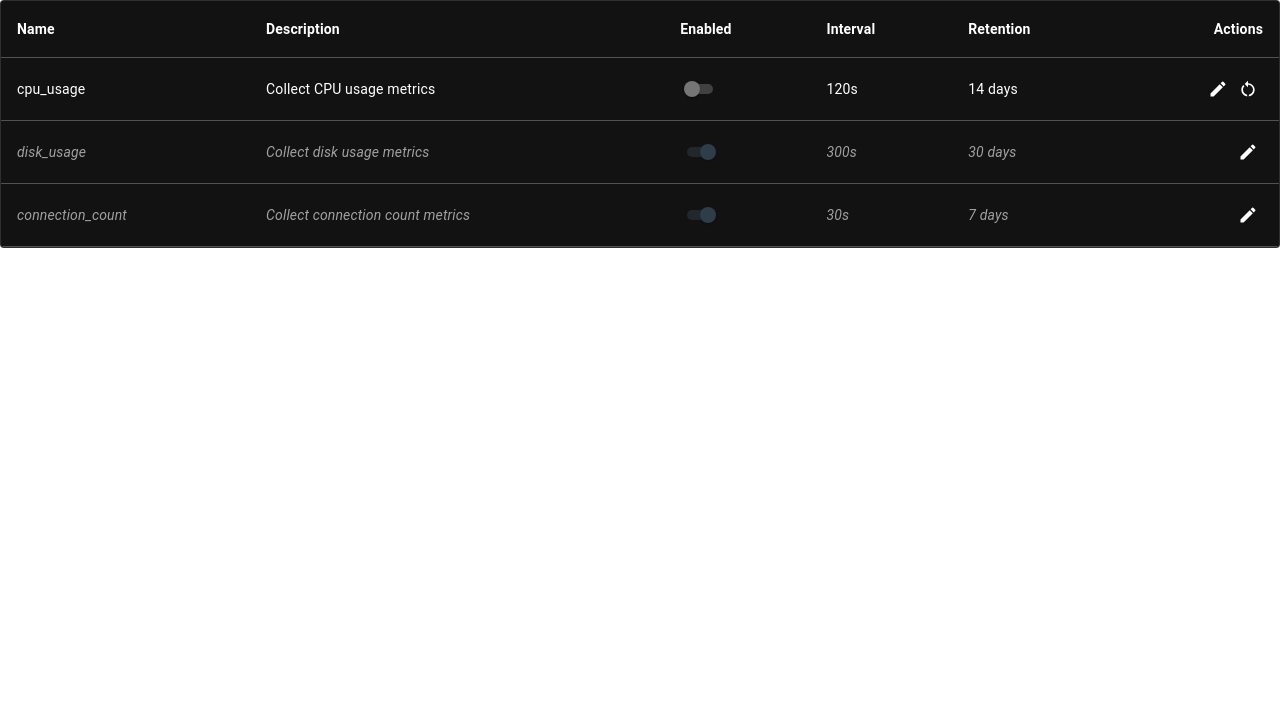
ProbeOverridesPanel › edit dialog Cancel closes the dialog
Expected: the text "cpu_usage" is shown, [1,58,250,120]
Click the button named "edit override" in the row of "cpu_usage". click: (1218, 89)
box: [1203,74,1233,104]
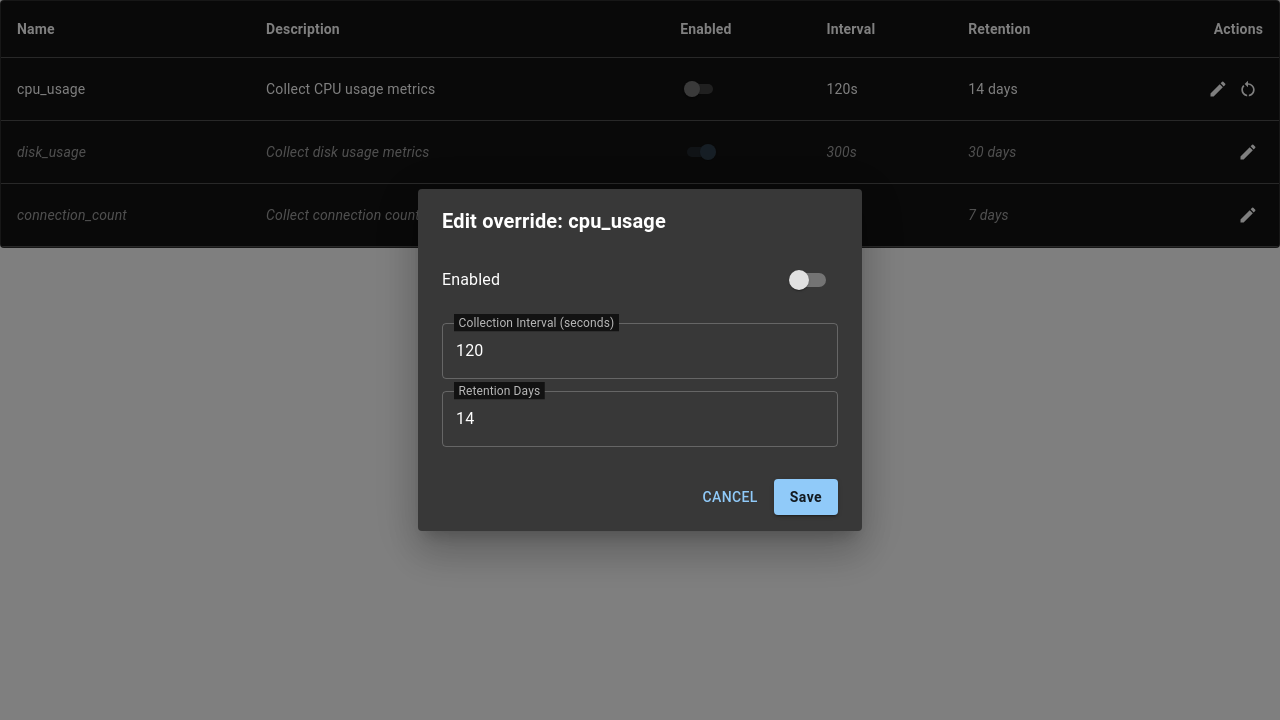
Expected: the heading "Edit override: cpu_usage" is shown, [442,209,666,233]
Click the button "Cancel". click: (730, 497)
box: [694,479,766,515]
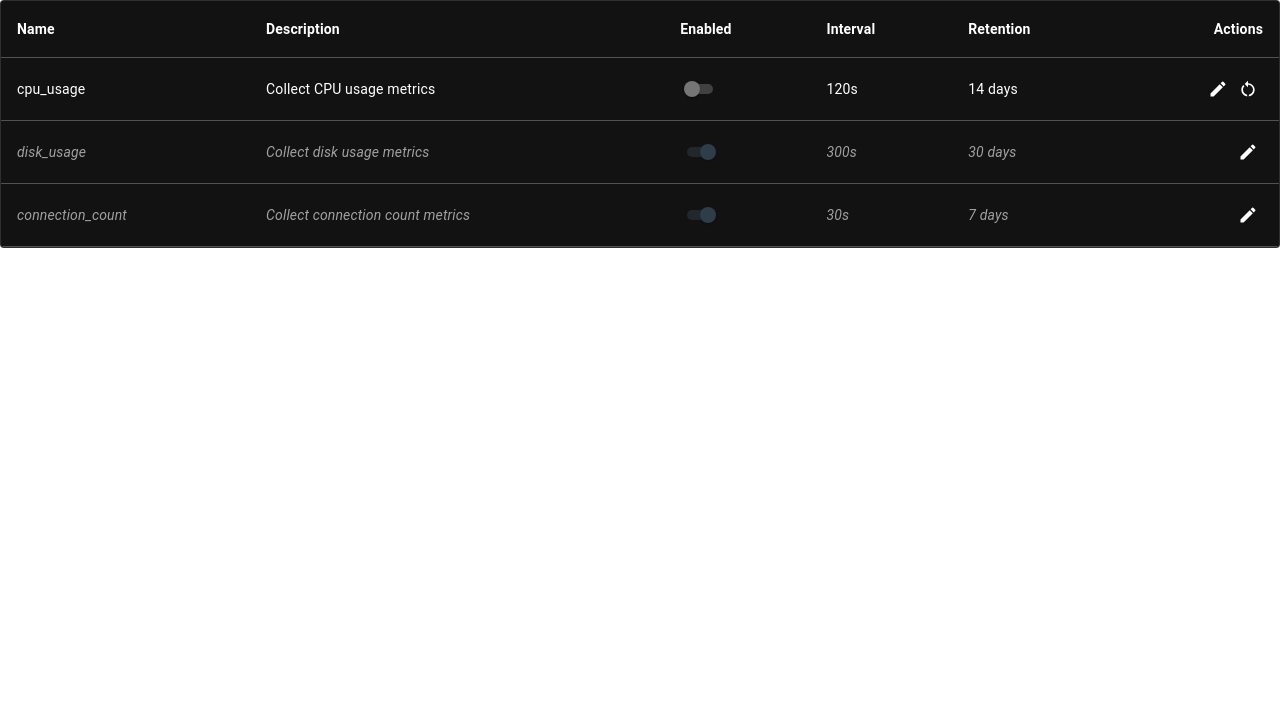
Expected: the heading "Edit override: cpu_usage" is gone
